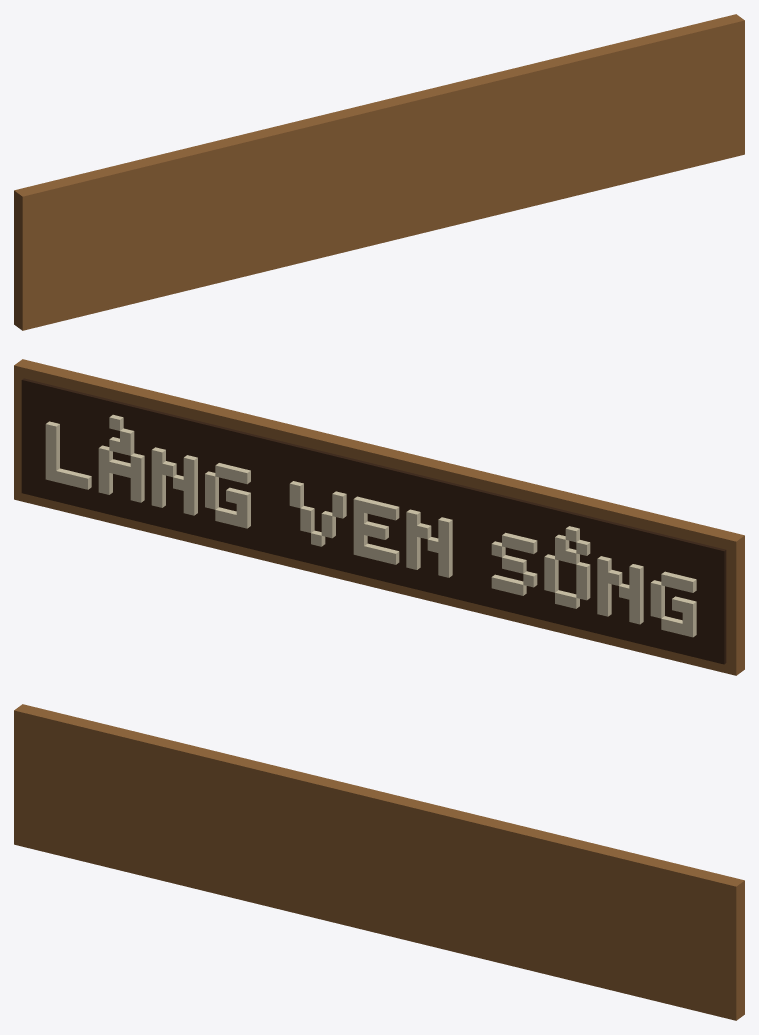
The model's file is th-sign-lang-ven-song.glb.
3 views of the same model, one above another, from view 1: azimuth 30°, elevation 25°; view 2: azimuth 150°, elevation 25°; view 3: azimuth 330°, elevation 25° (orthographic).
Visible parts, largest first — view 1: box-prop; view 2: box-prop; view 3: box-prop.
Boxes of the visible parts, x1,y1,x2,y2 form: box-prop: (14,14,744,330); box-prop: (14,359,744,675); box-prop: (14,704,744,1020).
Bounding box in the file's own units: 5.79 × 1.03 × 0.2.
